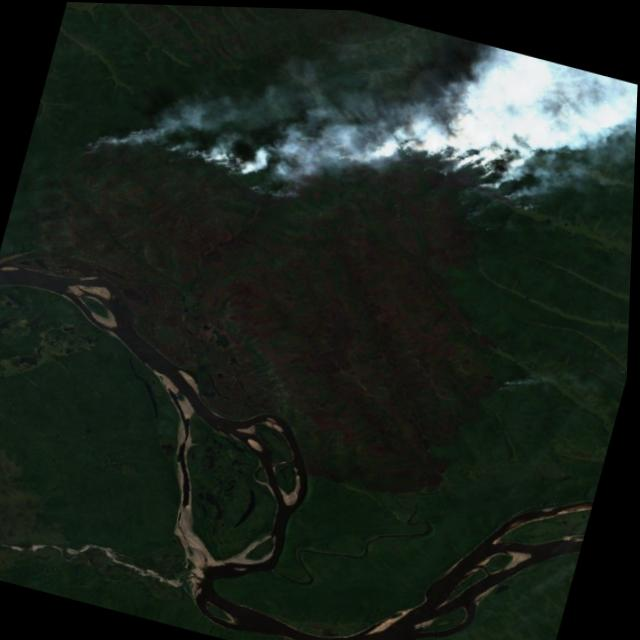fire: (162, 61, 552, 260)
